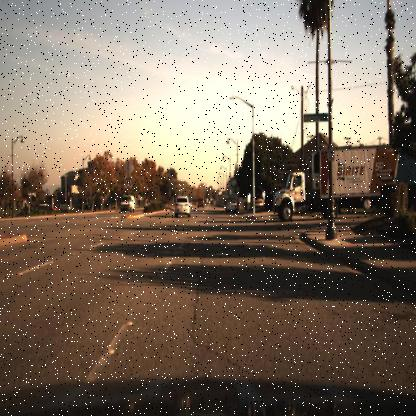car: (167, 193, 195, 221), (115, 193, 137, 218), (119, 194, 135, 217), (223, 195, 239, 214), (194, 195, 205, 211)
truck: (269, 141, 403, 234), (271, 142, 413, 224)
